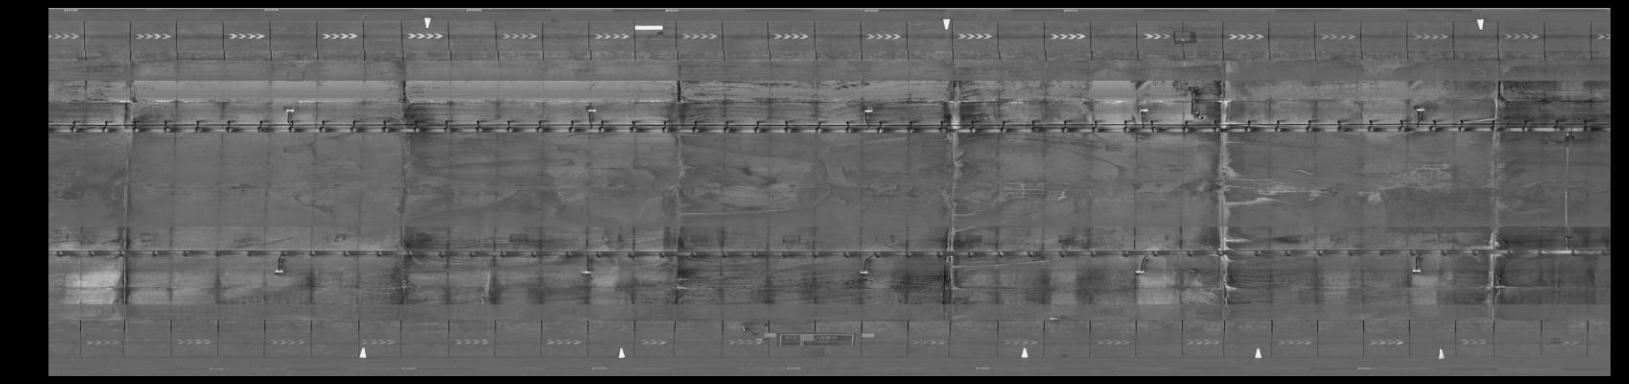light: (1401, 263, 1427, 280), (1132, 105, 1155, 117), (1129, 266, 1151, 278), (269, 264, 288, 278), (1410, 103, 1428, 116), (853, 267, 875, 278), (577, 266, 596, 278), (858, 105, 876, 117), (281, 106, 300, 116), (583, 105, 602, 115)
